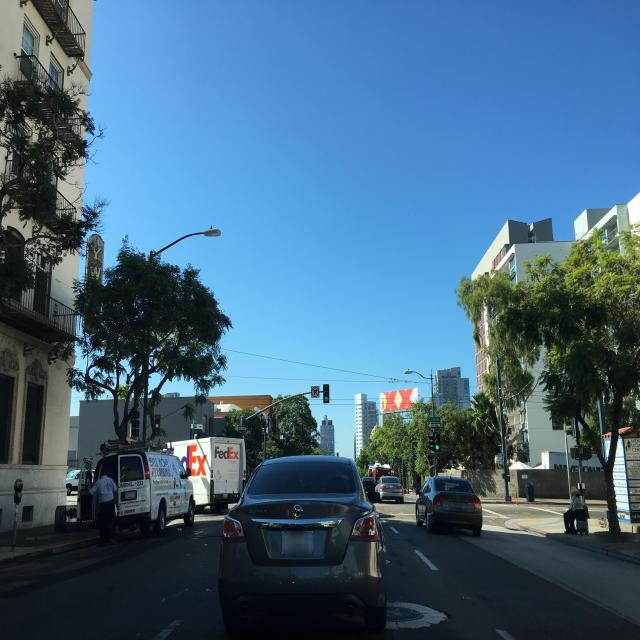Good: (387, 602, 427, 625)
